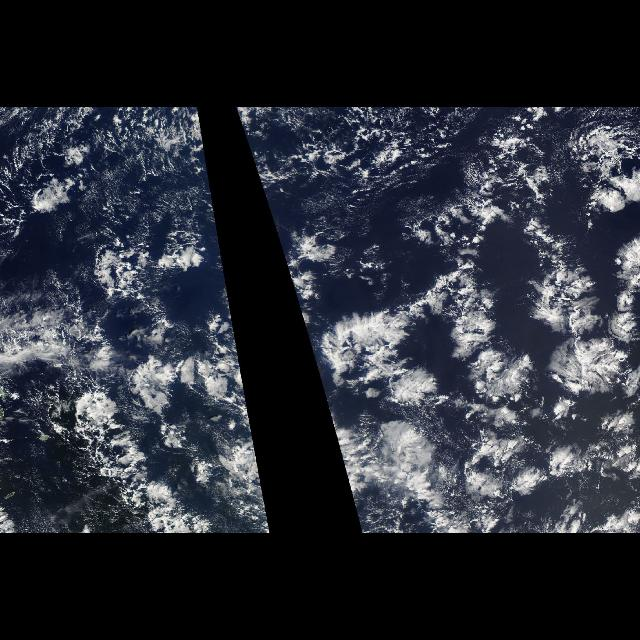Fish: (299, 263, 623, 422)
Flower: (273, 221, 639, 533), (69, 221, 271, 533)
Gravel: (234, 108, 636, 210), (3, 107, 215, 269)
